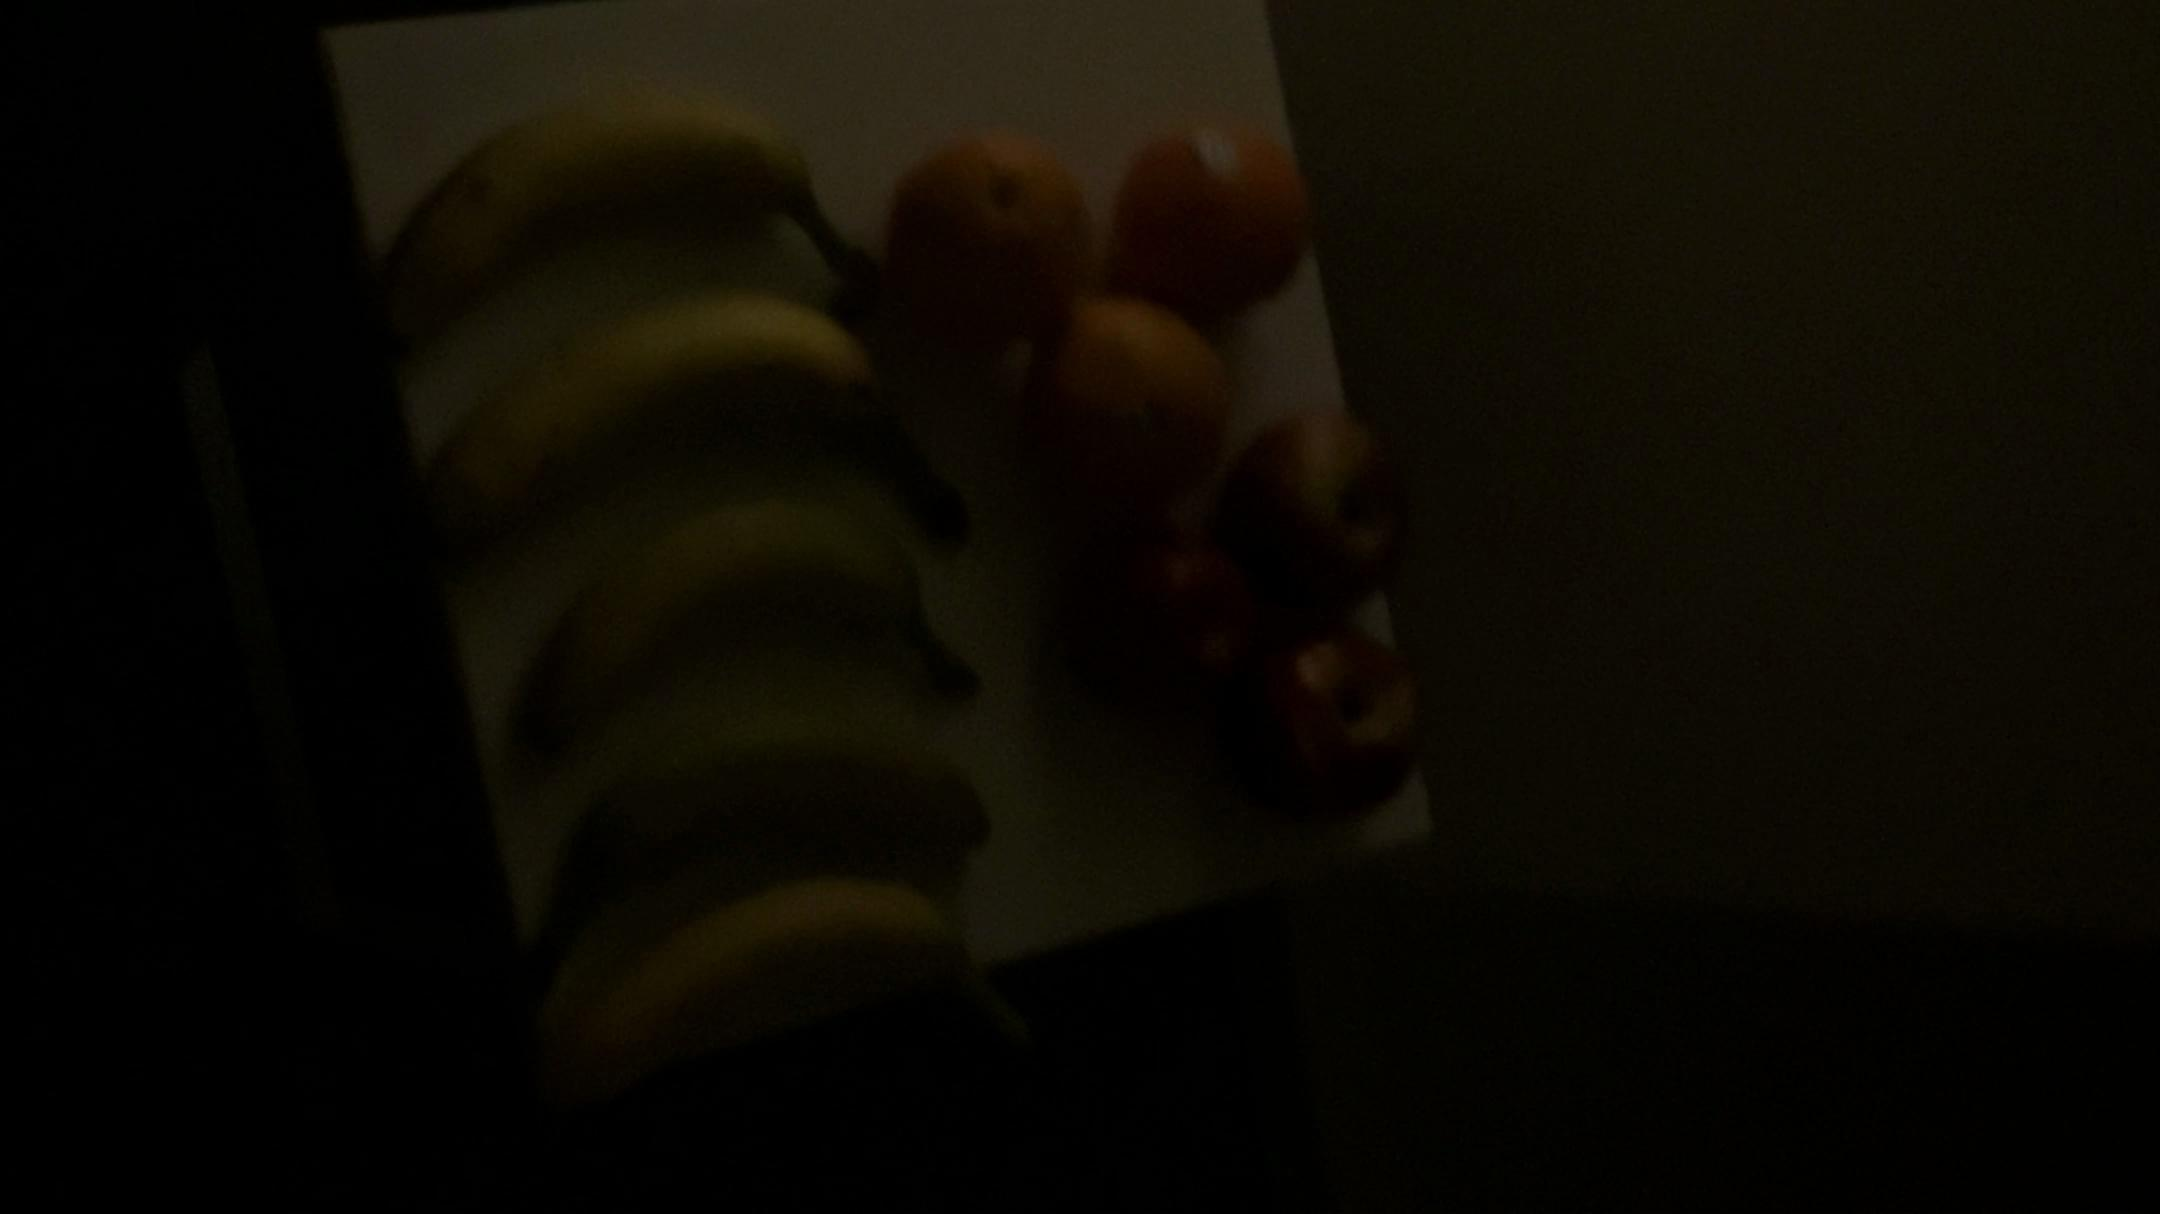apple: (1196, 607, 1435, 853), (1061, 493, 1285, 724), (1243, 381, 1438, 606)
banana: (435, 511, 1016, 736), (381, 312, 941, 519), (521, 873, 1024, 1101), (363, 107, 880, 328), (481, 709, 1010, 922)
orange: (1111, 93, 1328, 327), (1003, 291, 1242, 496), (889, 114, 1096, 335)
